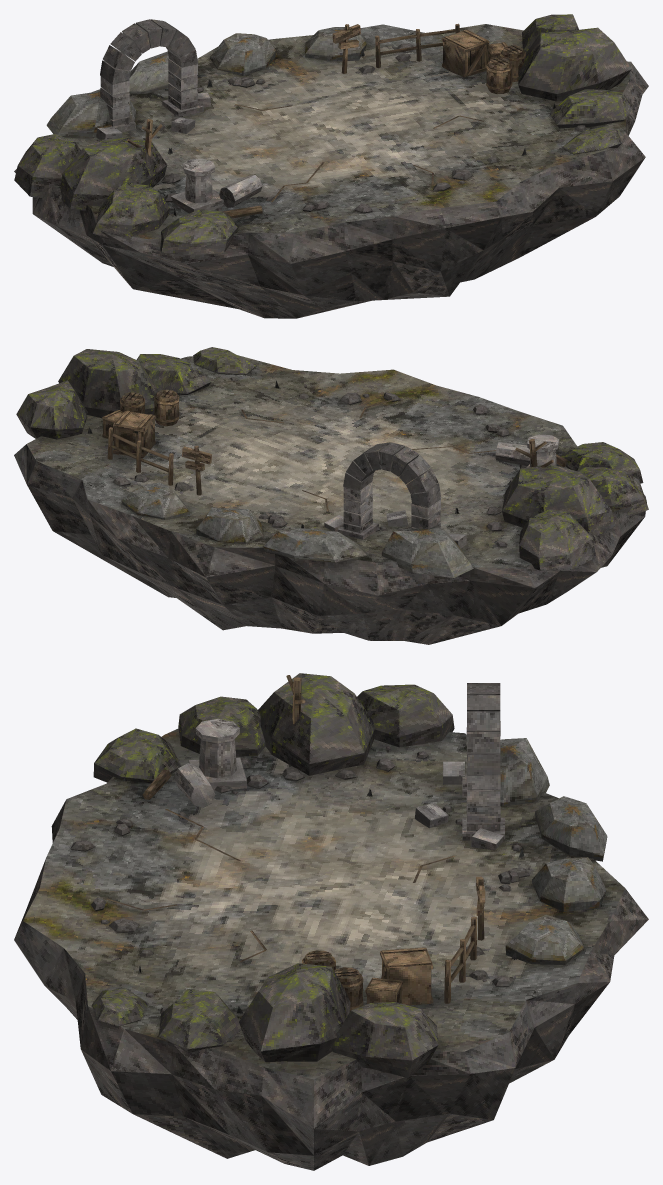
File: floating_island-CzmmCkdG.glb
3 views of the same model, one above another, from view 1: azimuth 30°, elevation 25°; view 2: azimuth 150°, elevation 25°; view 3: azimuth 270°, elevation 25° (orthographic). The views are drawn at different scales.
Visible parts, largest first — view 1: Platform - fractured slate surface, Platform - broken cliff strata, Outcrop - left rim, Outcrop - right rim, Outcrop - back ridge, Ruin - weathered stone arch and fallen blocks, Ruin - snapped column and fallen shaft, Rubble - loose scree and pebbles, Supplies - large braced crate, Lookout - broken timber railing, Supplies - iron-banded barrel 2, Deadwood - bare snag and fallen limb (+2 smaller); view 2: Platform - fractured slate surface, Platform - broken cliff strata, Outcrop - left rim, Outcrop - right rim, Outcrop - back ridge, Ruin - weathered stone arch and fallen blocks, Rubble - loose scree and pebbles, Supplies - large braced crate, Ruin - snapped column and fallen shaft, Lookout - broken timber railing, Supplies - iron-banded barrel 2, Trail prop - weathered signpost (+2 smaller); view 3: Platform - fractured slate surface, Platform - broken cliff strata, Outcrop - right rim, Outcrop - left rim, Outcrop - back ridge, Ruin - weathered stone arch and fallen blocks, Ruin - snapped column and fallen shaft, Rubble - loose scree and pebbles, Supplies - large braced crate, Lookout - broken timber railing, Supplies - small crooked crate, Deadwood - bare snag and fallen limb (+1 smaller).
Part boxes in pixels (bbox=[...]): Platform - fractured slate surface: bbox=[53, 24, 630, 238]; Platform - broken cliff strata: bbox=[14, 62, 648, 318]; Outcrop - left rim: bbox=[14, 134, 237, 255]; Outcrop - right rim: bbox=[518, 14, 633, 154]; Outcrop - back ridge: bbox=[46, 27, 366, 138]; Ruin - weathered stone arch and fallen blocks: bbox=[96, 19, 210, 139]; Ruin - snapped column and fallen shaft: bbox=[170, 158, 262, 213]; Rubble - loose scree and pebbles: bbox=[128, 43, 586, 218]; Supplies - large braced crate: bbox=[442, 29, 489, 77]; Lookout - broken timber railing: bbox=[375, 23, 459, 68]; Supplies - iron-banded barrel 2: bbox=[486, 57, 512, 94]; Deadwood - bare snag and fallen limb: bbox=[127, 119, 262, 218]; Platform - fractured slate surface: bbox=[26, 355, 646, 568]; Platform - broken cliff strata: bbox=[14, 444, 646, 644]; Outcrop - left rim: bbox=[502, 442, 648, 570]; Outcrop - right rim: bbox=[16, 347, 255, 439]; Outcrop - back ridge: bbox=[121, 482, 473, 577]; Ruin - weathered stone arch and fallen blocks: bbox=[324, 442, 467, 548]; Rubble - loose scree and pebbles: bbox=[112, 374, 526, 547]; Supplies - large braced crate: bbox=[113, 410, 155, 457]; Ruin - snapped column and fallen shaft: bbox=[495, 434, 570, 469]; Lookout - broken timber railing: bbox=[107, 427, 173, 485]; Supplies - iron-banded barrel 2: bbox=[154, 389, 179, 426]; Trail prop - weathered signpost: bbox=[182, 445, 211, 495]; Platform - fractured slate surface: bbox=[23, 728, 625, 1079]; Platform - broken cliff strata: bbox=[14, 800, 648, 1170]; Outcrop - right rim: bbox=[92, 963, 438, 1077]; Outcrop - left rim: bbox=[93, 673, 454, 783]; Outcrop - back ridge: bbox=[500, 738, 607, 964]; Ruin - weathered stone arch and fallen blocks: bbox=[414, 683, 504, 850]; Ruin - snapped column and fallen shaft: bbox=[174, 718, 246, 807]; Rubble - loose scree and pebbles: bbox=[70, 746, 529, 1041]; Supplies - large braced crate: bbox=[380, 947, 433, 1005]; Lookout - broken timber railing: bbox=[444, 916, 476, 1003]; Supplies - small crooked crate: bbox=[365, 977, 403, 1003]; Deadwood - bare snag and fallen limb: bbox=[142, 675, 305, 799].
Size of the model in its own units: 24.62 by 10.08 by 17.15.
2 materials, 2 textured.
